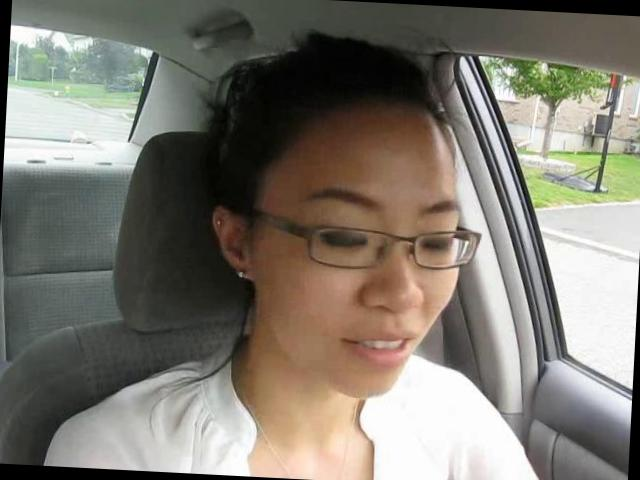eye_closed: (308, 219, 377, 262), (413, 230, 457, 262)
face: (256, 164, 468, 405)
